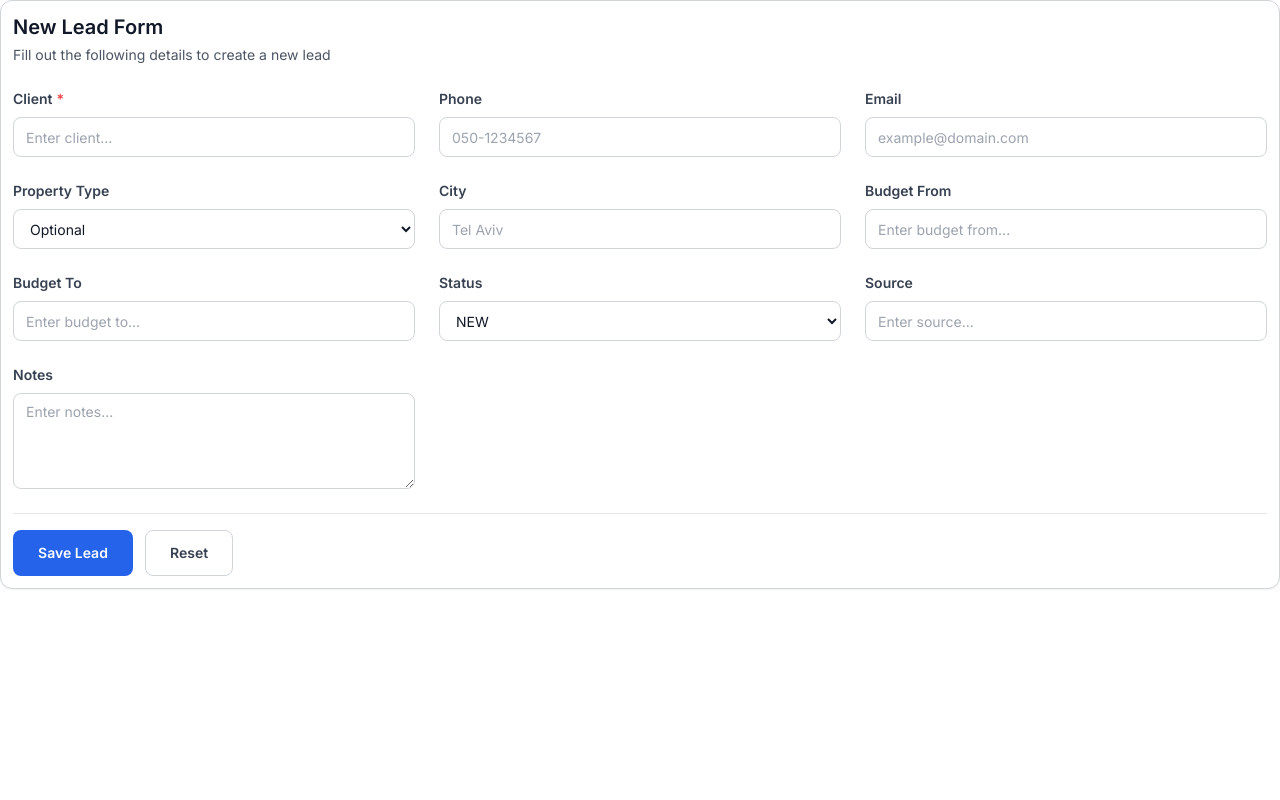
Test: LeadForm Accessibility › ARIA Labels and Descriptions › should associate error messages with form fields
// Submit form to trigger validation
What coordinates should you click on to do the following:
click the button "Save Lead"
I would click on:
 (73, 553)
Its box is [13,530,133,576].
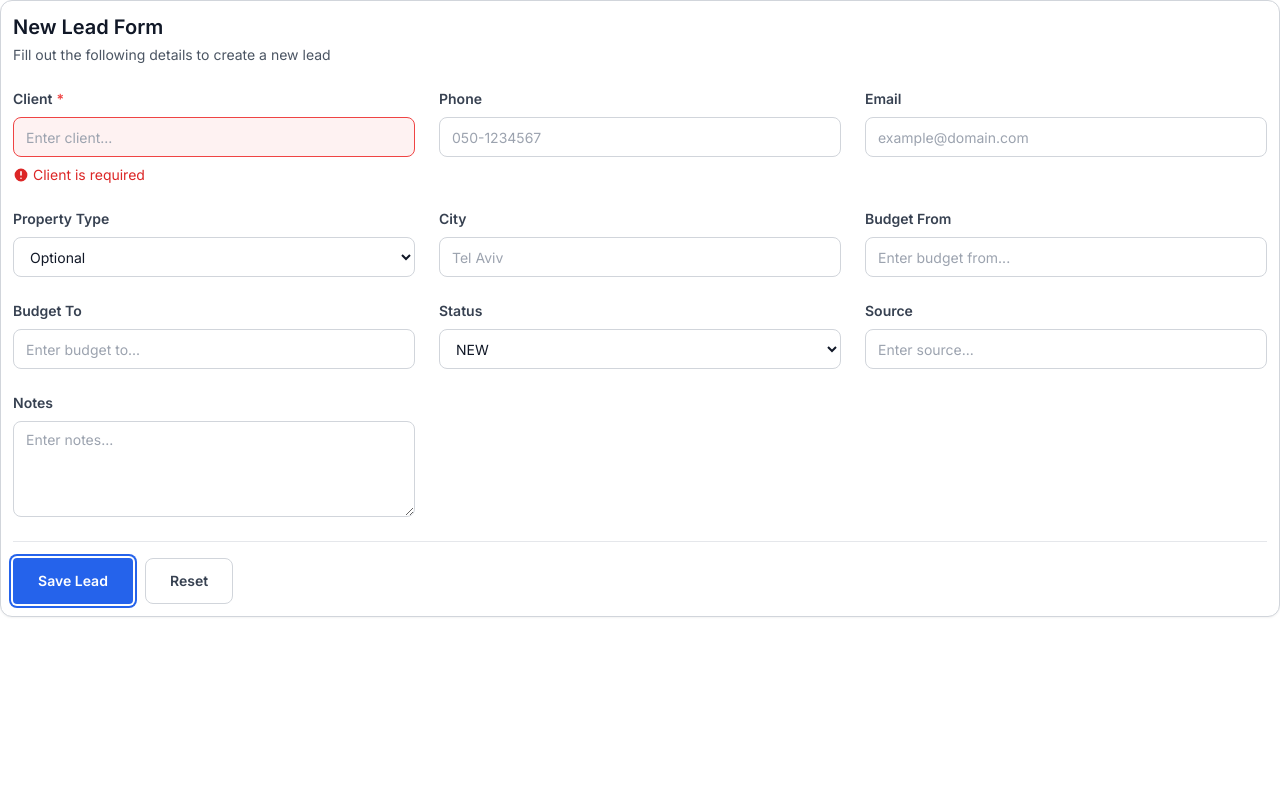
Now the message "Client is required" is shown, box [13,166,145,183]
